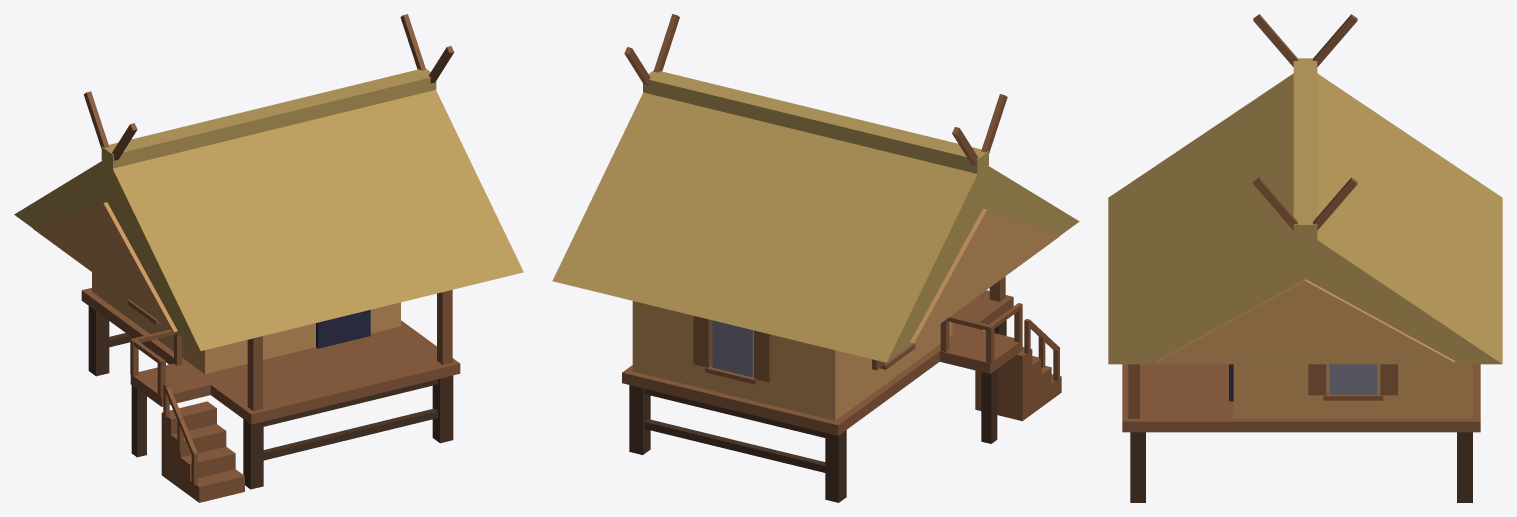
Rendered from house-1x1-1f-stilt-a.glb.
3 renders of one model, left to right at view 1: azimuth 30°, elevation 25°; view 2: azimuth 150°, elevation 25°; view 3: azimuth 270°, elevation 25°, orthographic. The views are drawn at different scales.
Visible parts, largest first — view 1: house-1x1-1f-stilt-a; view 2: house-1x1-1f-stilt-a; view 3: house-1x1-1f-stilt-a.
Boxes of the visible parts, x1=… form: house-1x1-1f-stilt-a: x1=14, y1=14, x2=523, y2=502; house-1x1-1f-stilt-a: x1=552, y1=14, x2=1079, y2=502; house-1x1-1f-stilt-a: x1=1108, y1=14, x2=1502, y2=502.
Size of the model in its own units: 1.01 by 0.9803 by 0.99.
1 material, 1 textured.
